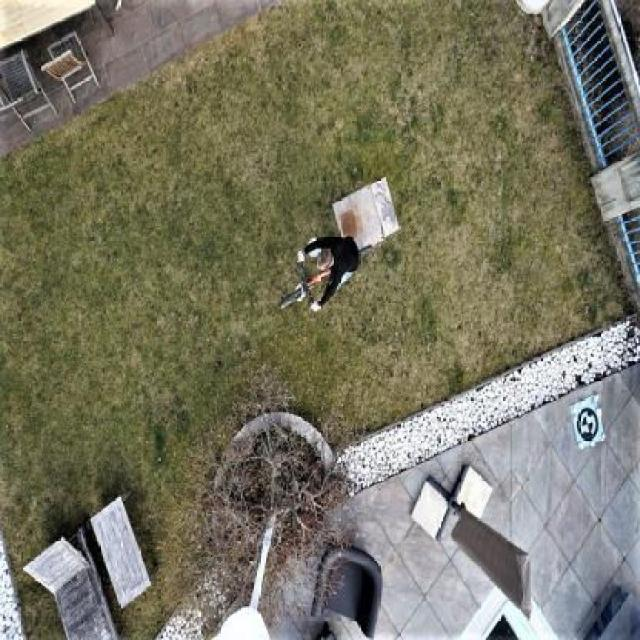Person: (289, 231, 368, 314)
